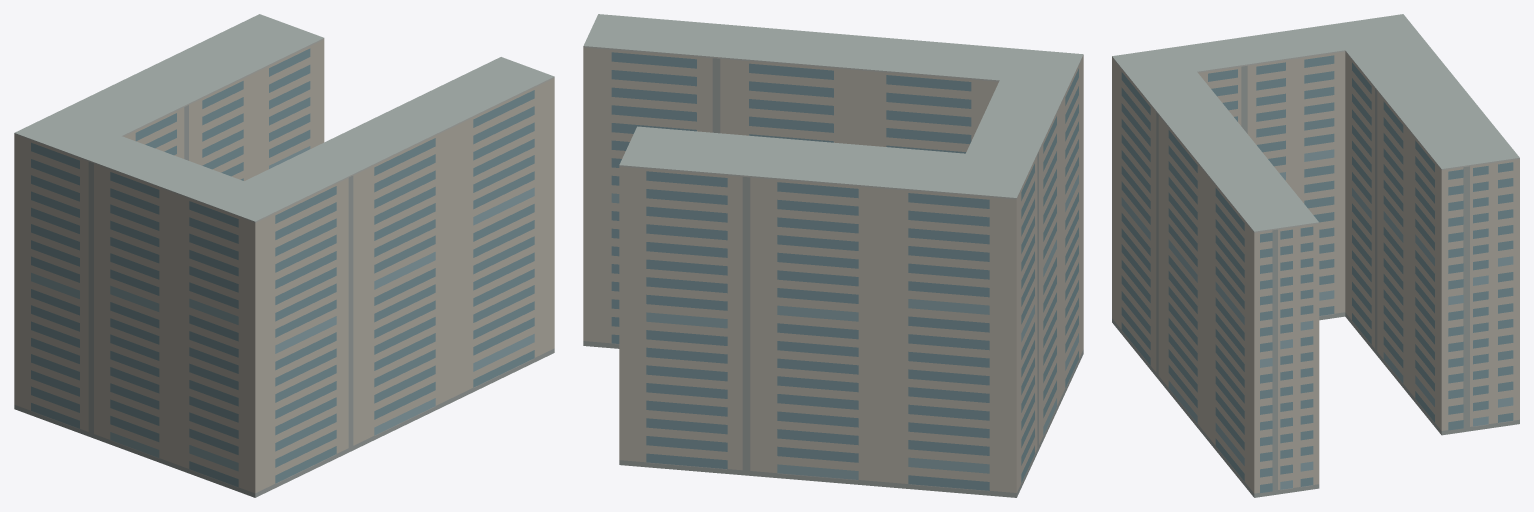
Rendered from residential-863ff850-4c26-468a-a698-6fa57fb98d16.glb.
3 views of the same model, side by side, from view 1: azimuth 30°, elevation 25°; view 2: azimuth 150°, elevation 25°; view 3: azimuth 270°, elevation 25° (orthographic). The views are drawn at different scales.
Visible parts, largest first — view 1: residential-863ff850-4c26-468a-a698-6fa57fb98d16.tmp; view 2: residential-863ff850-4c26-468a-a698-6fa57fb98d16.tmp; view 3: residential-863ff850-4c26-468a-a698-6fa57fb98d16.tmp.
Boxes of the visible parts, bbox=[...] form: residential-863ff850-4c26-468a-a698-6fa57fb98d16.tmp: bbox=[14, 14, 554, 497]; residential-863ff850-4c26-468a-a698-6fa57fb98d16.tmp: bbox=[583, 14, 1083, 497]; residential-863ff850-4c26-468a-a698-6fa57fb98d16.tmp: bbox=[1112, 14, 1519, 497].
Bounding box in the file's own units: 89.43 × 51 × 70.82.
